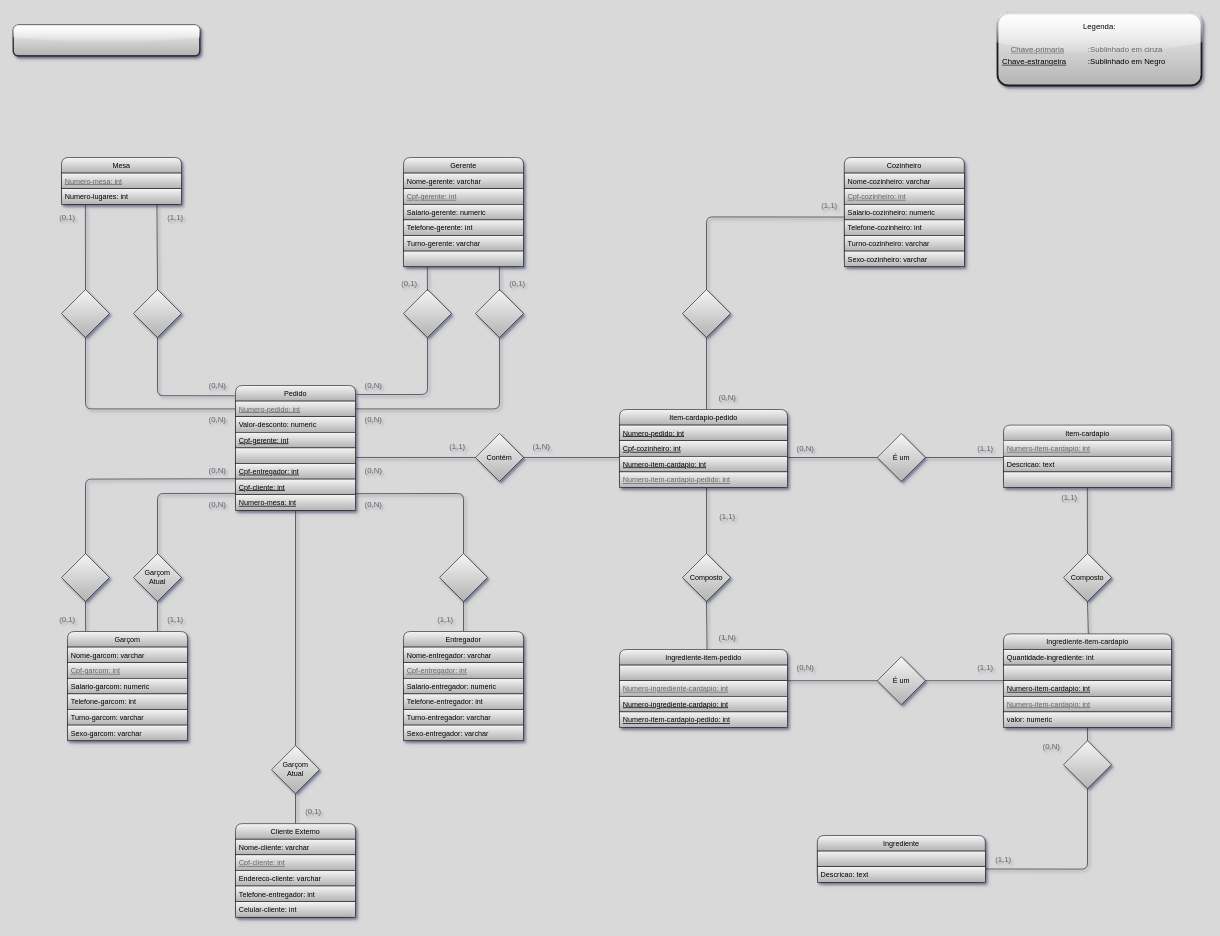
Some shapes in this 1220 by 936 pixel diagram are drawn without their labels. The centre of each missing label's shape, as x and y in pixels:
"Boteco da Tia" belongs at point 106,41.
"Cancela" belongs at point 499,314.
"Cpf-garcom:int" belongs at point 295,456.
"Desconto" belongs at point 427,314.
"Foi Entregue" belongs at point 463,578.
"Garçom Anterior" belongs at point 85,578.
"Mesa Anterior" belongs at point 85,314.
"Mesa Atual" belongs at point 157,314.
"Numero-ingrediente : int" belongs at point 1087,673.
"Numero-ingrediente: int" belongs at point 901,859.
"Possui" belongs at point 1087,765.
"Prepara" belongs at point 707,314.
"Quantidade-item-pedido: int" belongs at point 703,673.
"Sexo-gerente: varchar" belongs at point 463,259.
"Valor-item: numeric" belongs at point 1087,480.
